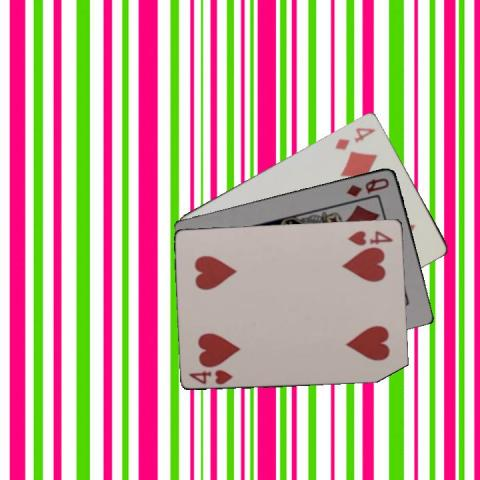4d: (331, 124, 377, 151)
4h: (186, 366, 235, 385), (345, 228, 394, 246)
Qd: (344, 175, 391, 198)
